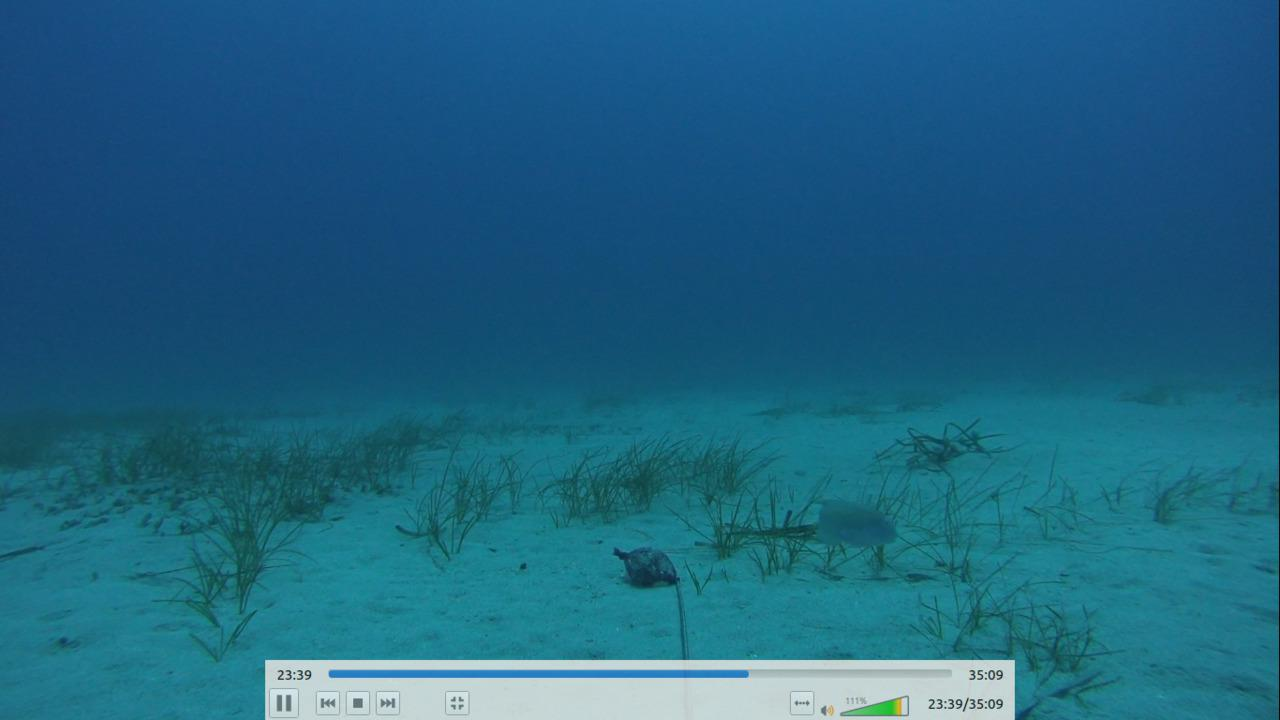raor: (808, 497, 899, 550)
